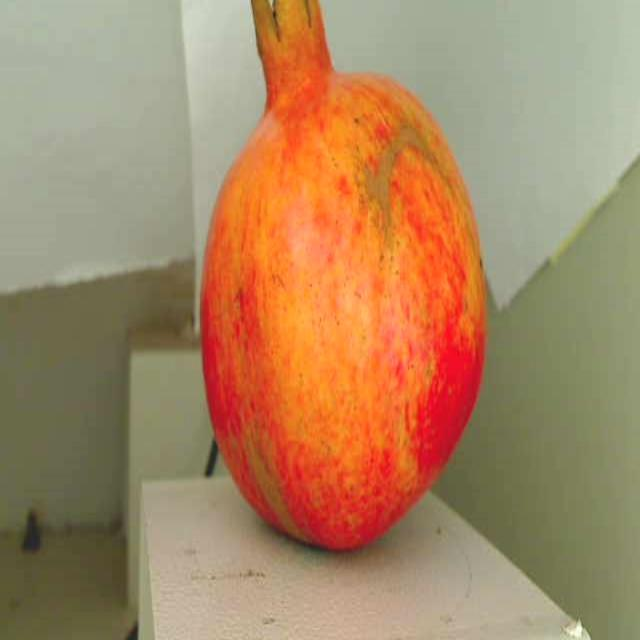pomegranate: (190, 0, 502, 571)
